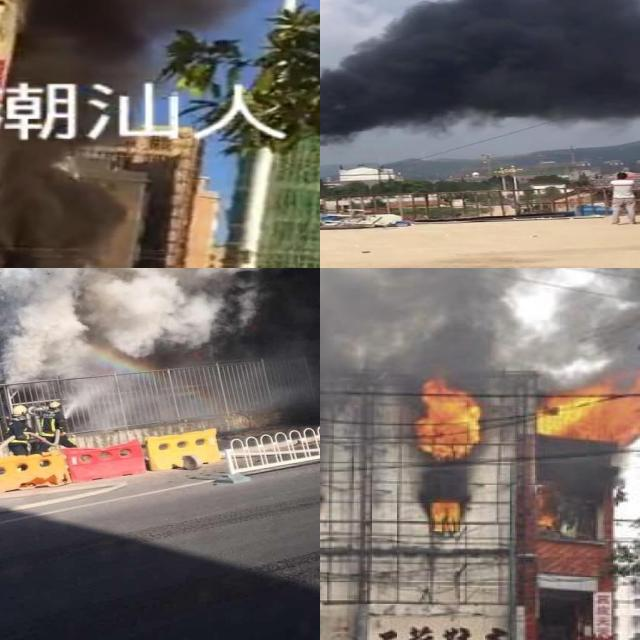fire: (529, 374, 640, 439), (412, 374, 483, 457), (422, 495, 463, 532), (530, 506, 563, 532)
smoke: (320, 268, 640, 493), (0, 0, 248, 268), (320, 0, 640, 175)
